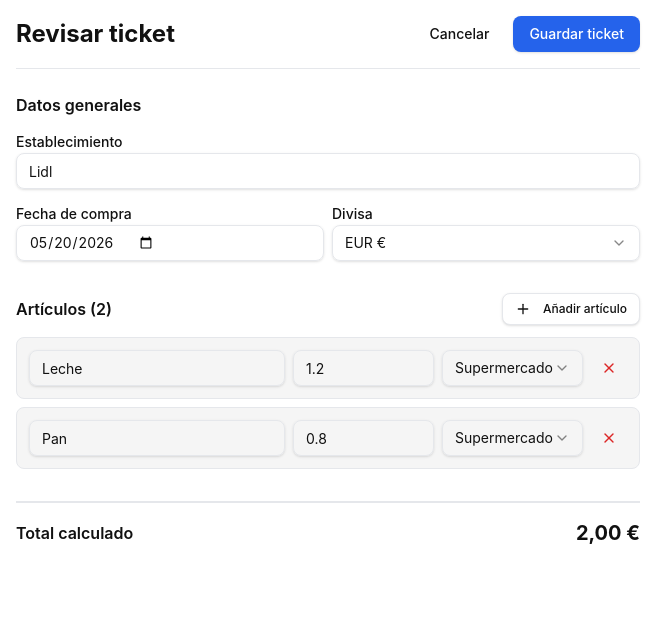
Test: ReceiptDraftEditor › puede añadir un nuevo artículo
Click the button "Añadir artículo" at [571, 309], box [502, 293, 640, 325]
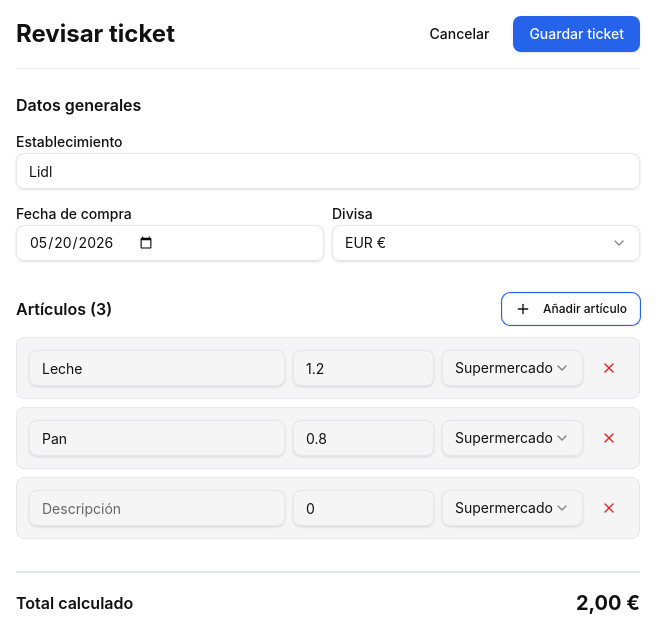
expect the number of fields named "descripción del artículo" is 3: met, box [29, 350, 285, 386]; [29, 420, 285, 456]; [29, 490, 285, 526]
